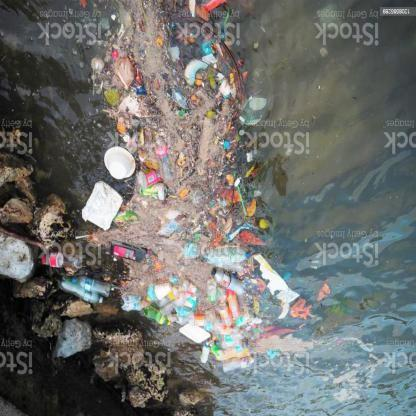Plastic: (198, 243, 258, 267), (100, 143, 138, 179), (209, 267, 246, 296), (59, 284, 101, 307)
Trash: (80, 182, 123, 233), (76, 276, 112, 299)
